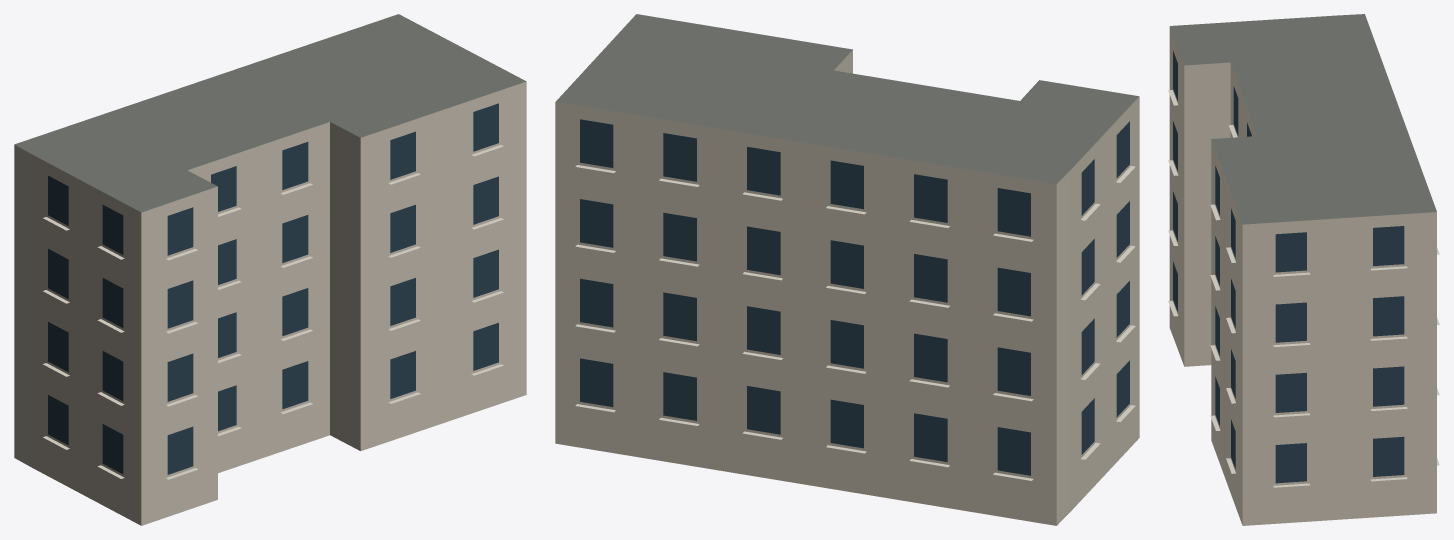
The picture shows the model from 3 angles, left to right: view 1: azimuth 30°, elevation 25°; view 2: azimuth 150°, elevation 25°; view 3: azimuth 270°, elevation 25°; orthographic projection. The views are drawn at different scales.
Visible parts, largest first — view 1: Footprint 0, Inferred window bays, Window sills; view 2: Footprint 0, Inferred window bays, Window sills; view 3: Footprint 0, Inferred window bays, Window sills.
Boxes of the visible parts, x1,y1,x2,y2 form: Footprint 0: (14,14,526,525); Inferred window bays: (48,103,498,474); Window sills: (43,145,503,479); Footprint 0: (555,14,1139,525); Inferred window bays: (580,119,1129,475); Window sills: (575,165,1135,480); Footprint 0: (1169,14,1436,525); Inferred window bays: (1173,51,1404,483); Window sills: (1168,90,1439,487).
Bounding box in the file's own units: 19.53 × 12.99 × 10.62.
